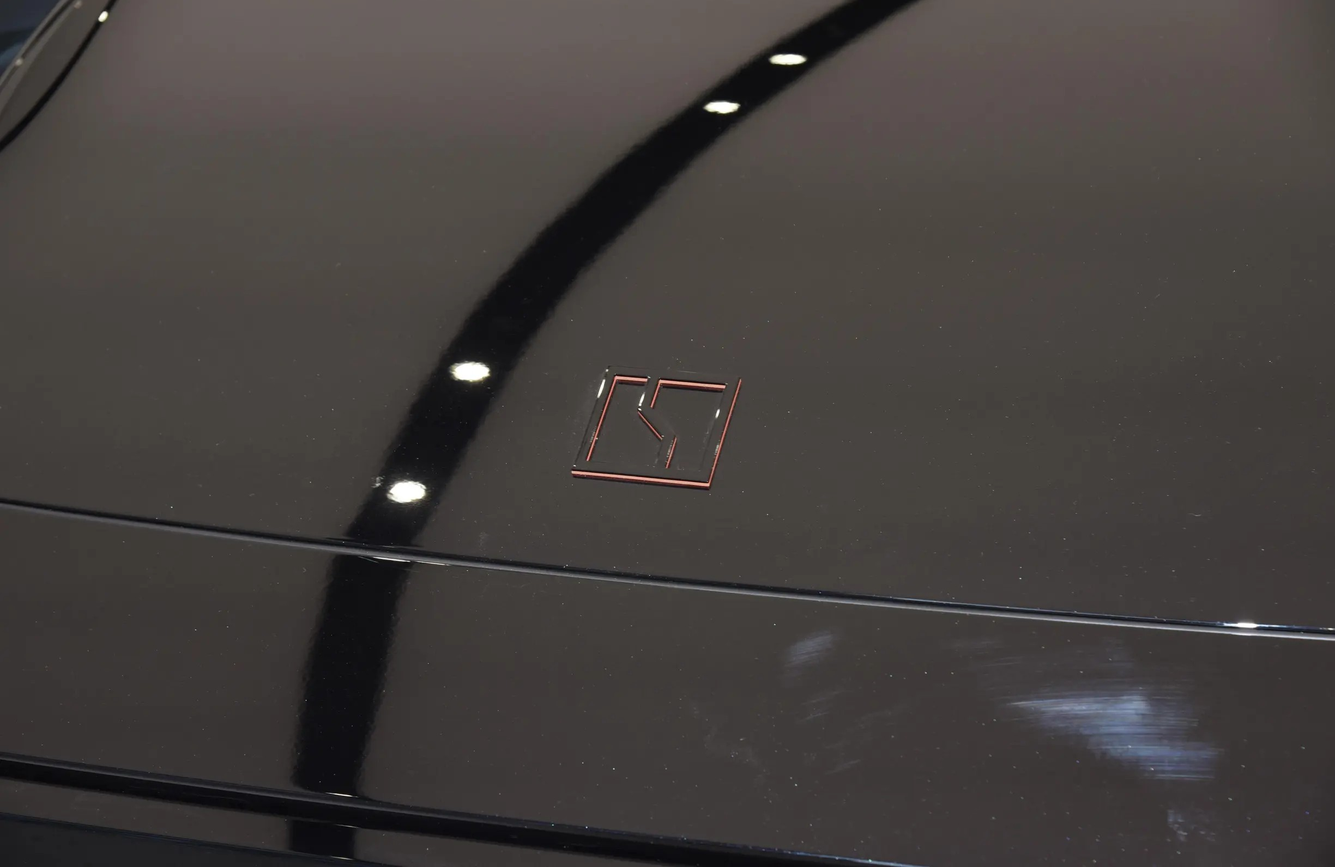ZEEKR: (572, 365, 741, 486)
